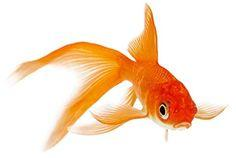goldfish: (113, 46, 203, 134)
